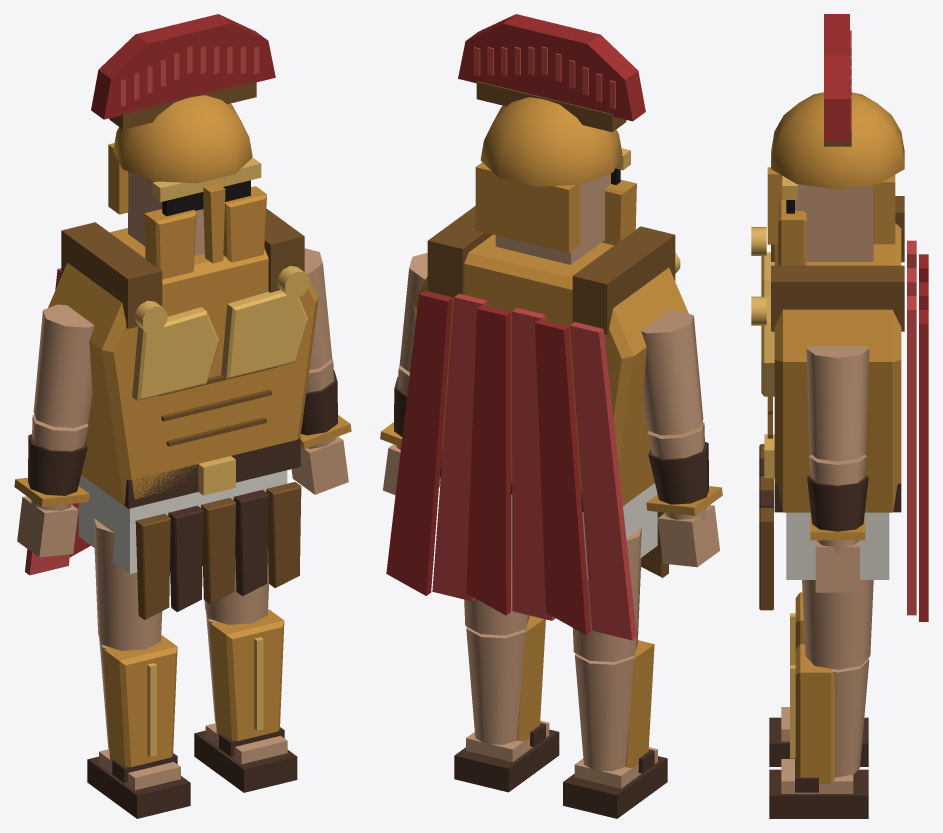
Rendered from spartan-body.glb.
The picture shows the model from 3 angles, left to right: view 1: azimuth 30°, elevation 25°; view 2: azimuth 150°, elevation 25°; view 3: azimuth 270°, elevation 25°; orthographic projection.
Visible parts, largest first — view 1: Cuirass, TransverseCrest, HelmetCrown, Greave-1, Greave1, UpperArm-1, ChestPlate1, ChestPlate-1, ShoulderStrap-1, Tunic, Thigh-1, Belt (+36 smaller); view 2: Cuirass, CapeFold0, CapeFold5, CapeFold1, CapeFold3, TransverseCrest, HelmetCrown, CapeFold4, CapeFold2, HelmetBack, UpperArm-1, ShoulderStrap-1 (+22 smaller); view 3: Cuirass, HelmetCrown, UpperArm1, ShoulderStrap1, Thigh1, Face, Greave1, Tunic, TransverseCrest, Shin1, Sandal1, CapeFold4 (+21 smaller).
Boxes of the visible parts, x1,y1,x2,y2 form: Cuirass: (48, 228, 318, 505); TransverseCrest: (91, 14, 275, 119); HelmetCrown: (113, 95, 252, 183); Greave-1: (104, 635, 177, 766); Greave1: (210, 609, 284, 740); UpperArm-1: (33, 304, 94, 427); ChestPlate1: (221, 290, 308, 378); ChestPlate-1: (132, 307, 219, 400); ShoulderStrap-1: (61, 222, 162, 328); Tunic: (78, 470, 287, 573); Thigh-1: (94, 518, 162, 650); Belt: (124, 438, 300, 508); Cuirass: (413, 234, 688, 505); CapeFold0: (570, 322, 636, 640); CapeFold5: (386, 291, 452, 595); CapeFold1: (535, 319, 590, 634); CapeFold3: (466, 305, 510, 615); TransverseCrest: (458, 14, 645, 121); HelmetCrown: (480, 97, 622, 186); CapeFold4: (432, 293, 487, 601); CapeFold2: (512, 308, 555, 620); HelmetBack: (475, 162, 580, 252); UpperArm-1: (641, 310, 703, 435); ShoulderStrap-1: (572, 226, 675, 334); Cuirass: (774, 223, 901, 512); HelmetCrown: (771, 92, 904, 189); UpperArm1: (806, 346, 869, 461); ShoulderStrap1: (771, 265, 904, 331); Thigh1: (802, 580, 873, 669); Face: (795, 184, 873, 261); Greave1: (795, 644, 835, 783); Tunic: (786, 512, 889, 579); TransverseCrest: (824, 14, 849, 141); Shin1: (832, 658, 869, 777); Sandal1: (769, 769, 868, 818); CapeFold4: (907, 296, 916, 615).
Bounding box in the file's own units: 1.04 × 2.4 × 0.5175.
